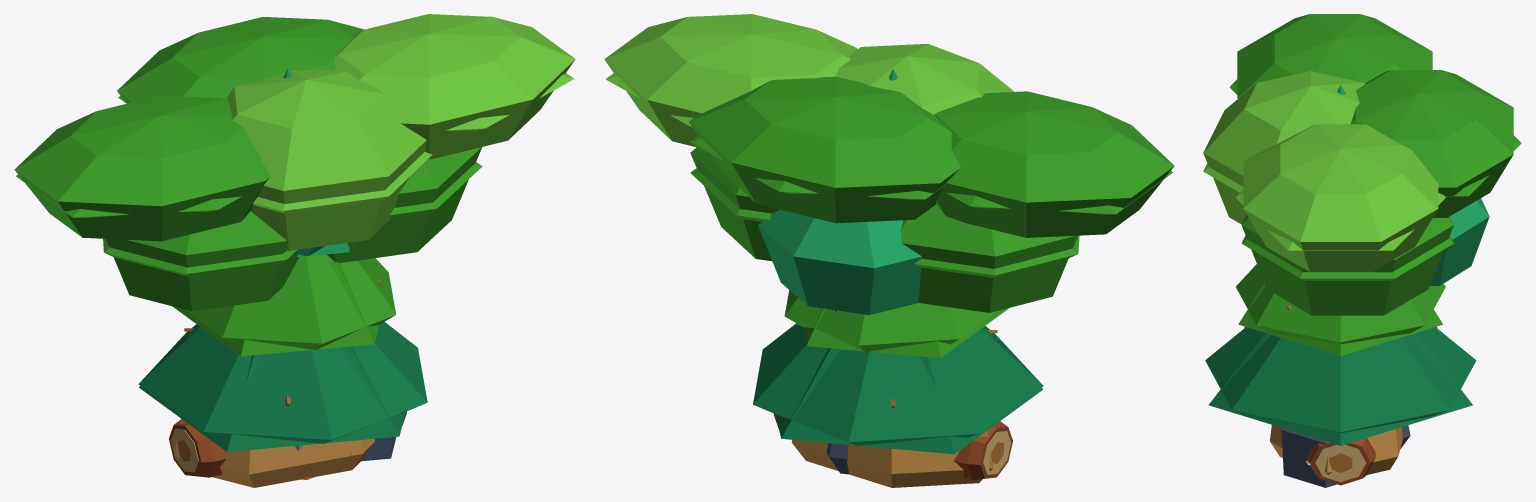
Rendered from biome-models.glb.
3 views of the same model, side by side, from view 1: azimuth 30°, elevation 25°; view 2: azimuth 150°, elevation 25°; view 3: azimuth 270°, elevation 25° (orthographic). The views are drawn at different scales.
Parts seen in each view (by area): view 1: tree-2, tree-0, tree-1, tree-lod-1, rock-1, tree-lod-0, log-0, tree-lod-2; view 2: tree-2, tree-0, tree-1, tree-lod-1, rock-1, tree-lod-0, tree-lod-2, log-0; view 3: tree-2, tree-1, tree-0, tree-lod-1, log-0, tree-lod-0, rock-0, rock-1, tree-lod-2.
Part boxes in pixels (x1=…): tree-2: x1=14, y1=14, x2=575, y2=241; tree-0: x1=106, y1=69, x2=482, y2=311; tree-1: x1=138, y1=69, x2=427, y2=443; tree-lod-1: x1=139, y1=69, x2=405, y2=451; rock-1: x1=174, y1=418, x2=374, y2=487; tree-lod-0: x1=103, y1=152, x2=482, y2=276; log-0: x1=169, y1=411, x2=406, y2=477; tree-lod-2: x1=16, y1=73, x2=573, y2=218; tree-2: x1=604, y1=14, x2=1174, y2=237; tree-0: x1=690, y1=43, x2=1077, y2=315; tree-1: x1=753, y1=69, x2=1043, y2=445; tree-lod-1: x1=775, y1=69, x2=1042, y2=454; rock-1: x1=791, y1=430, x2=993, y2=487; tree-lod-0: x1=690, y1=168, x2=1079, y2=277; tree-lod-2: x1=605, y1=73, x2=1173, y2=214; log-0: x1=773, y1=413, x2=1012, y2=479; tree-2: x1=1237, y1=14, x2=1513, y2=272; tree-1: x1=1205, y1=85, x2=1476, y2=433; tree-0: x1=1203, y1=71, x2=1489, y2=315; tree-lod-1: x1=1209, y1=88, x2=1472, y2=445; log-0: x1=1306, y1=438, x2=1375, y2=485; tree-lod-0: x1=1203, y1=163, x2=1453, y2=280; rock-0: x1=1281, y1=425, x2=1410, y2=487; rock-1: x1=1270, y1=425, x2=1402, y2=474; tree-lod-2: x1=1229, y1=79, x2=1521, y2=250.
Size of the model in its own units: 4.81 by 3.42 by 2.75.
